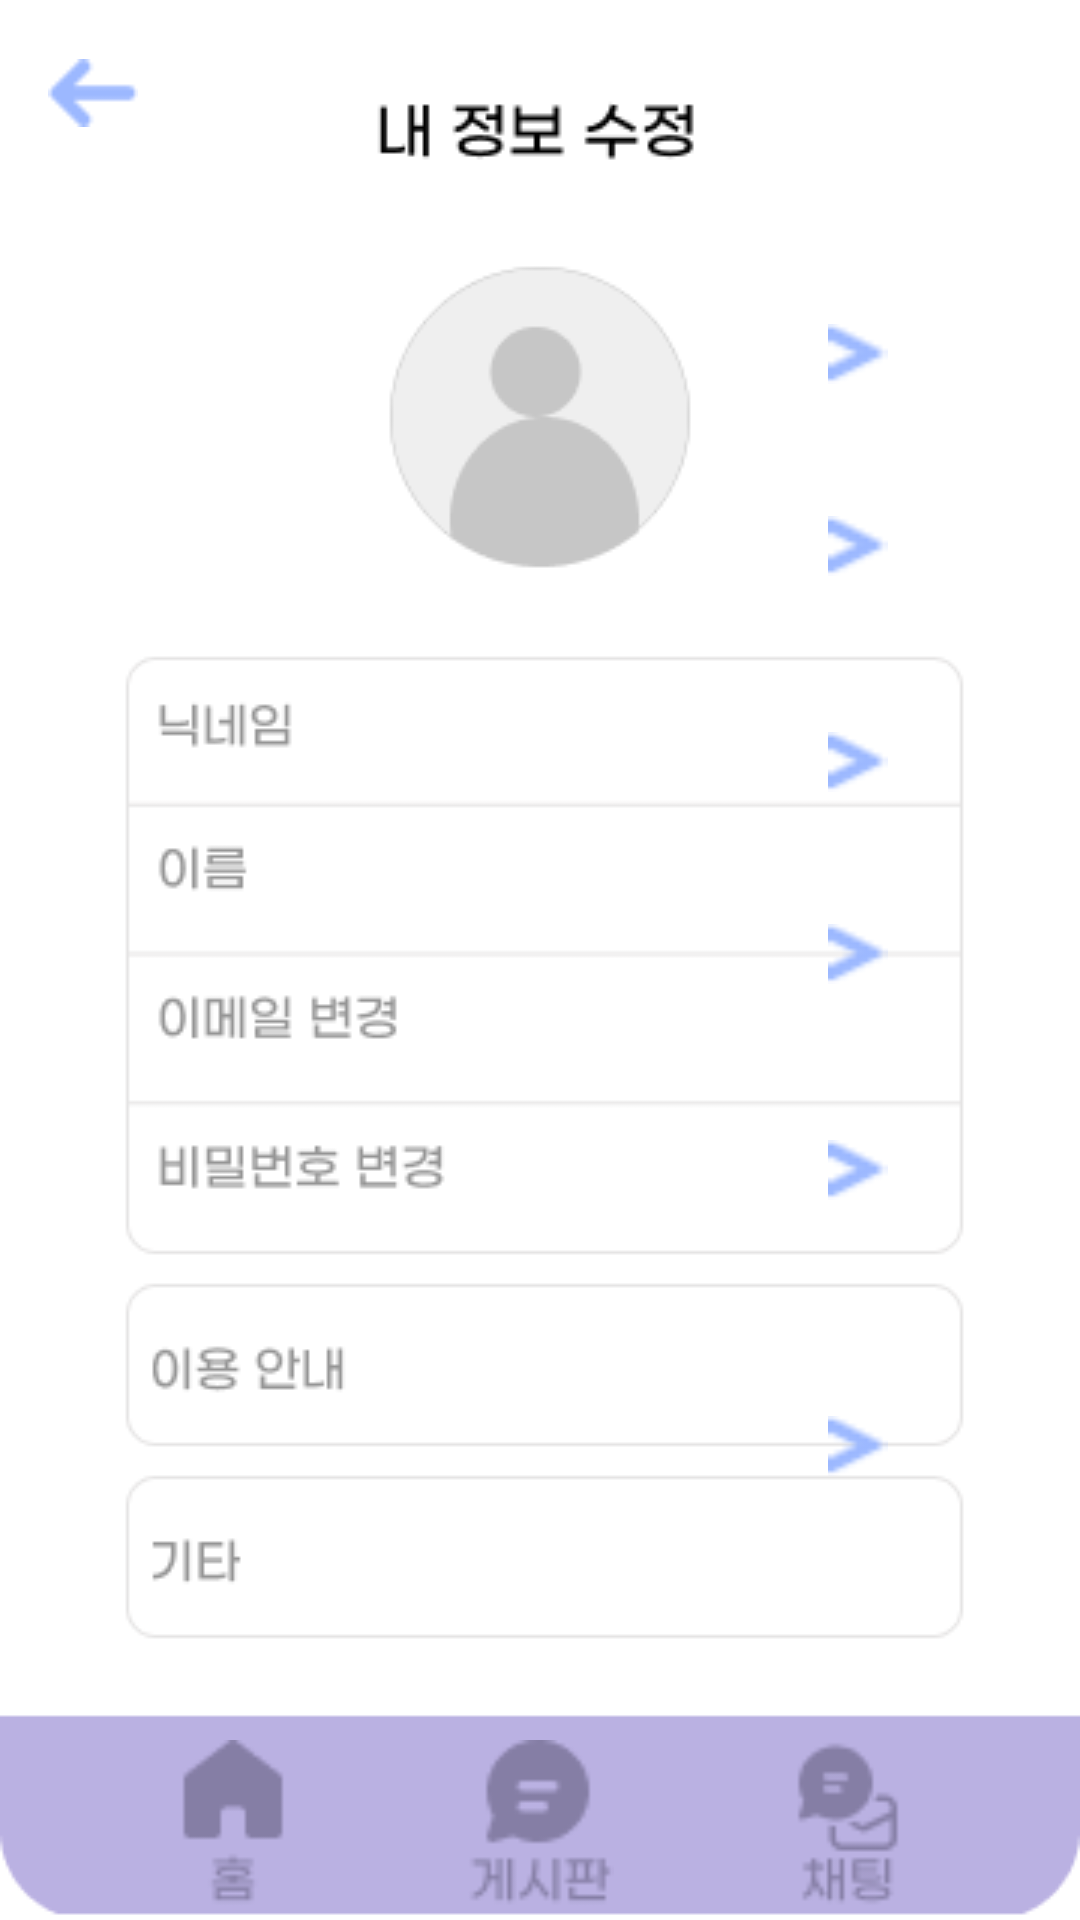

Locate icon controls on the screen. Image size 1080px×1920px, boxes as (x1, y1, x2, y2).
arrow: (828, 326, 883, 381), (828, 518, 883, 573), (828, 734, 883, 789), (828, 926, 888, 981), (828, 1142, 883, 1197), (828, 1418, 888, 1473)
Back Icon: (48, 59, 136, 127)
